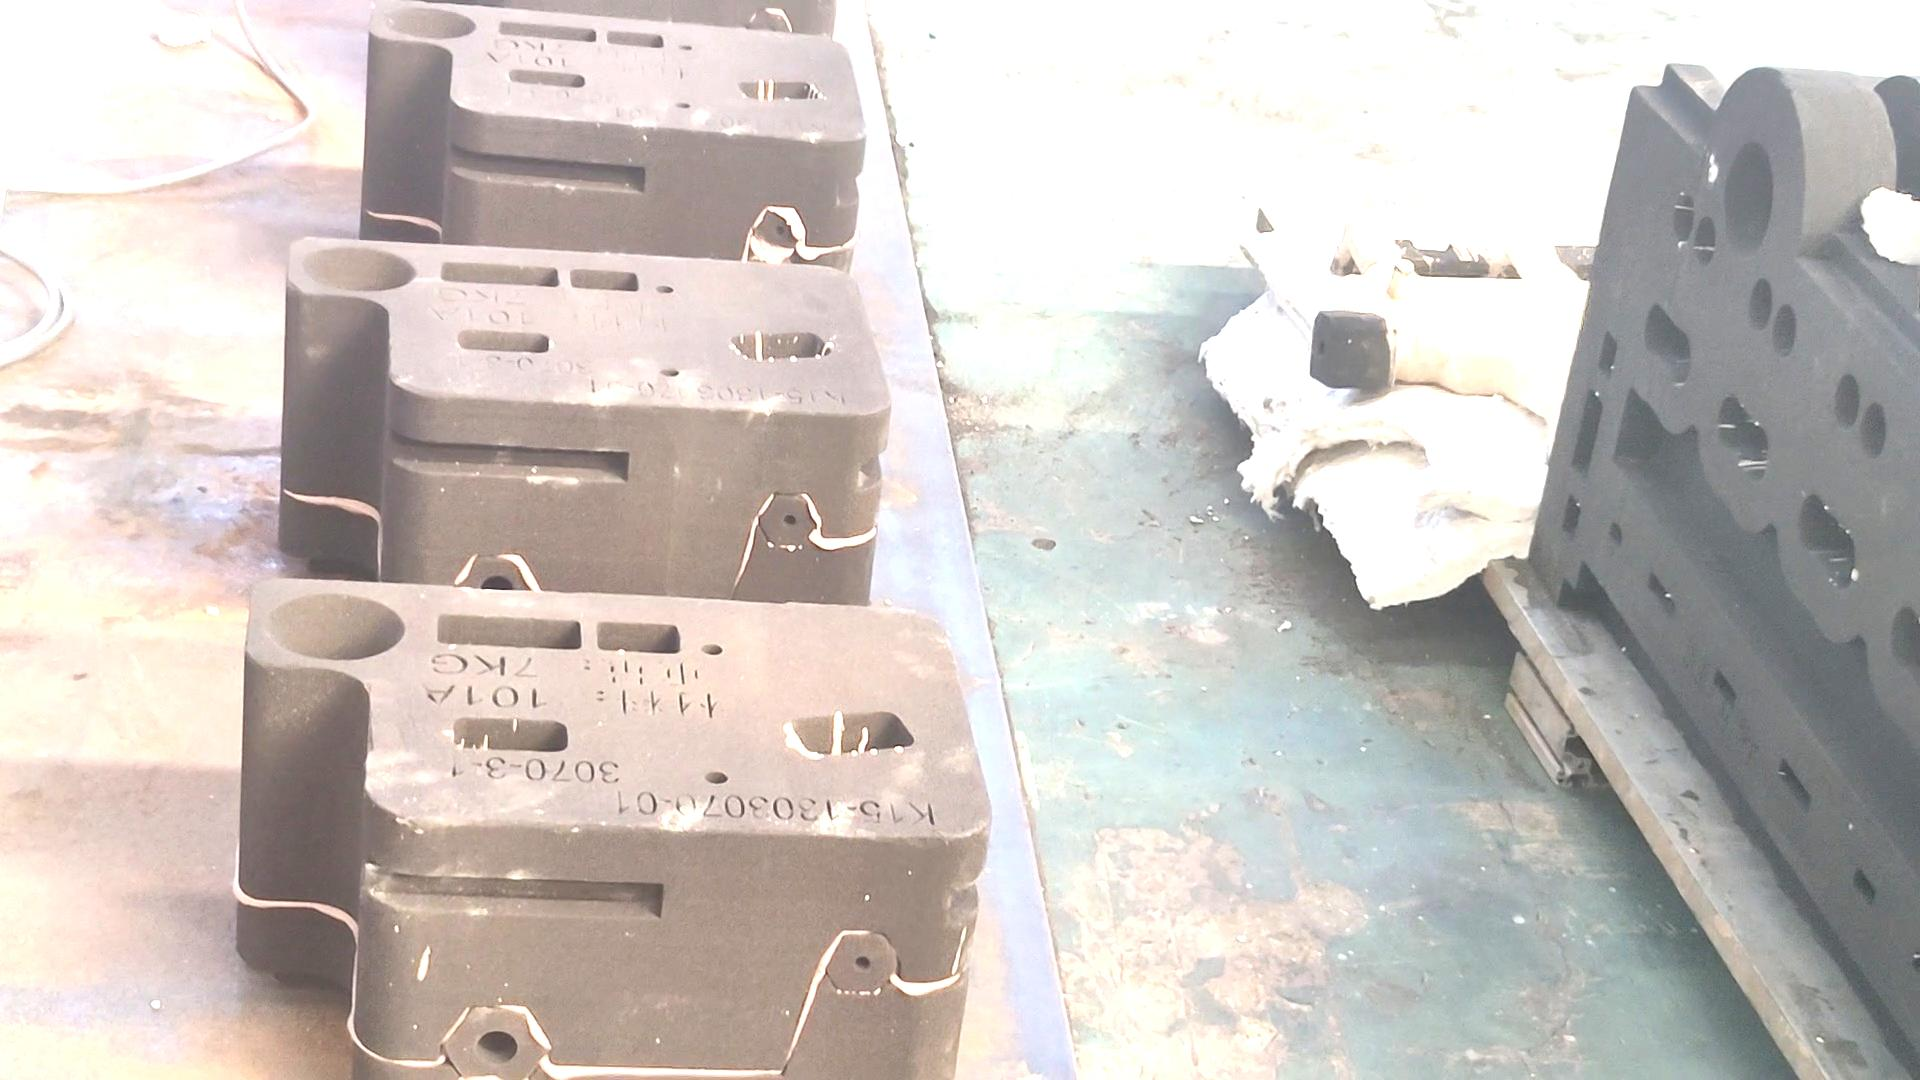pouring hole: (266, 591, 406, 661), (301, 245, 418, 291), (1724, 138, 1772, 249), (381, 3, 477, 38)
